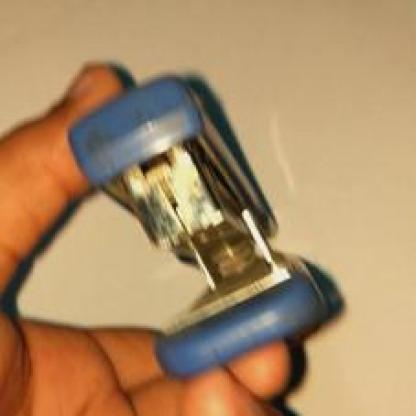stapler: (52, 84, 341, 376)
